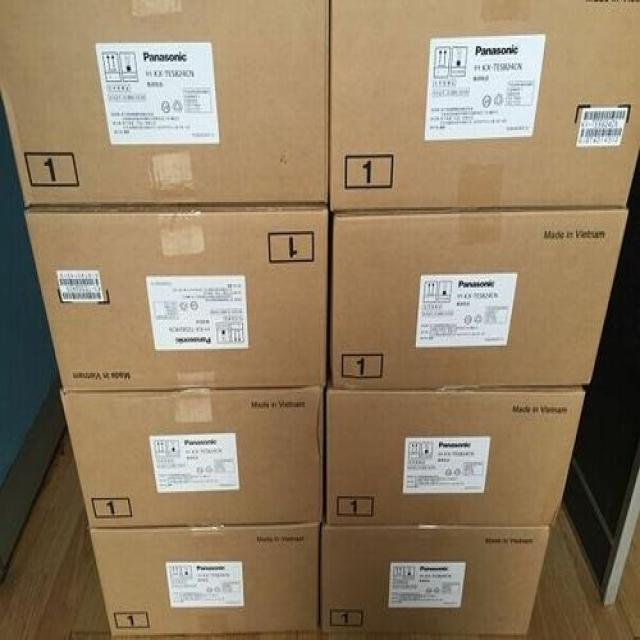box: (330, 0, 640, 214), (24, 204, 329, 392), (333, 207, 631, 387), (59, 388, 325, 530), (325, 390, 586, 525), (90, 524, 320, 640), (321, 524, 550, 635)
